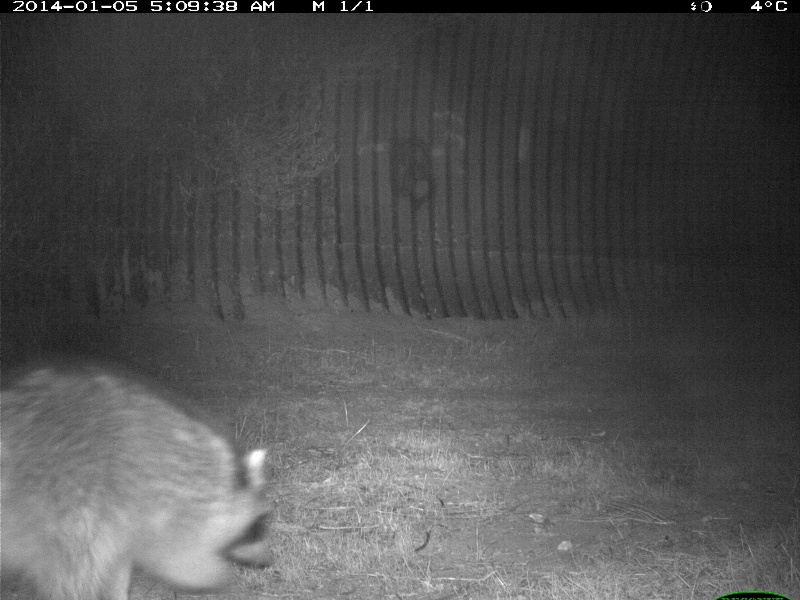raccoon: (2, 353, 281, 599)
